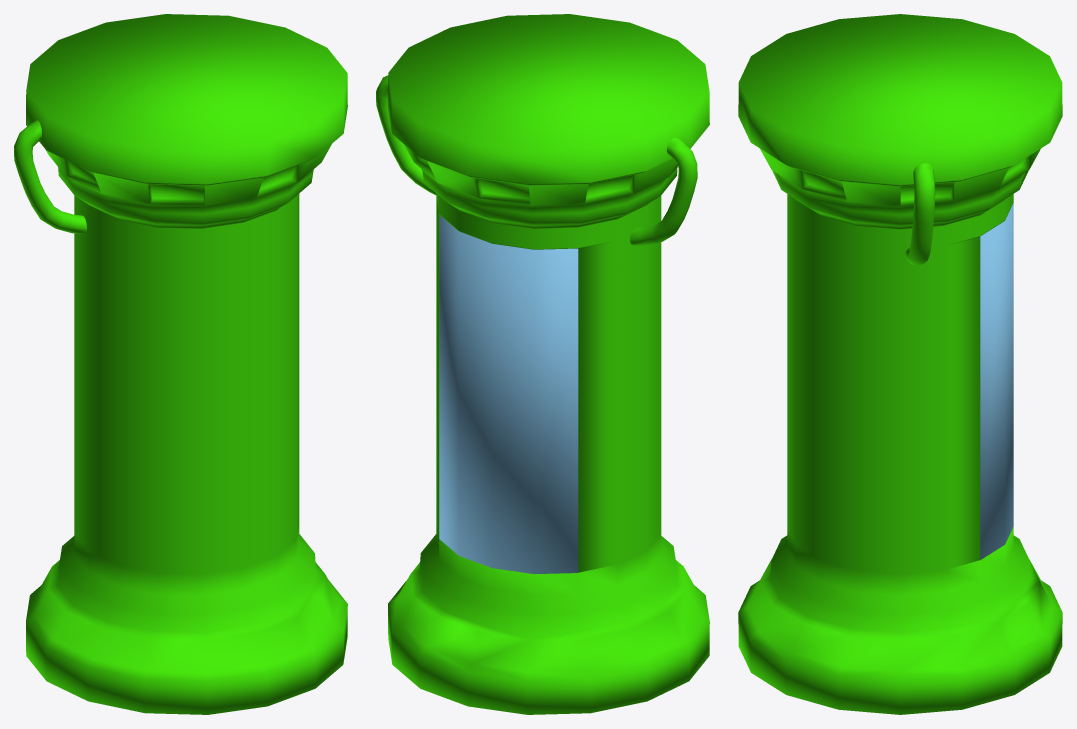
The model's file is SM_BubbleTank_Low.fbx.
3 renders of one model, left to right at view 1: azimuth 30°, elevation 25°; view 2: azimuth 150°, elevation 25°; view 3: azimuth 270°, elevation 25°, orthographic.
Visible parts, largest first — view 1: S_Capsule_low; view 2: S_Capsule_low, Glass_low; view 3: S_Capsule_low, Glass_low.
Boxes of the visible parts, left/top/right/bottom form: S_Capsule_low: left=14, top=14, right=347, bottom=714; S_Capsule_low: left=376, top=14, right=709, bottom=714; Glass_low: left=439, top=215, right=578, bottom=574; S_Capsule_low: left=738, top=14, right=1062, bottom=714; Glass_low: left=980, top=203, right=1013, bottom=559.
Size of the model in its own units: 6.71 by 11.39 by 5.93.
